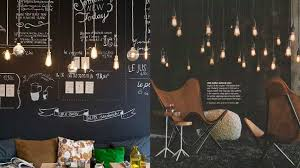bulb: (124, 38, 140, 63), (39, 50, 59, 68), (85, 42, 102, 62), (13, 38, 29, 58), (65, 59, 82, 77), (3, 48, 16, 66), (155, 51, 168, 68), (110, 54, 120, 73), (168, 12, 177, 31)
